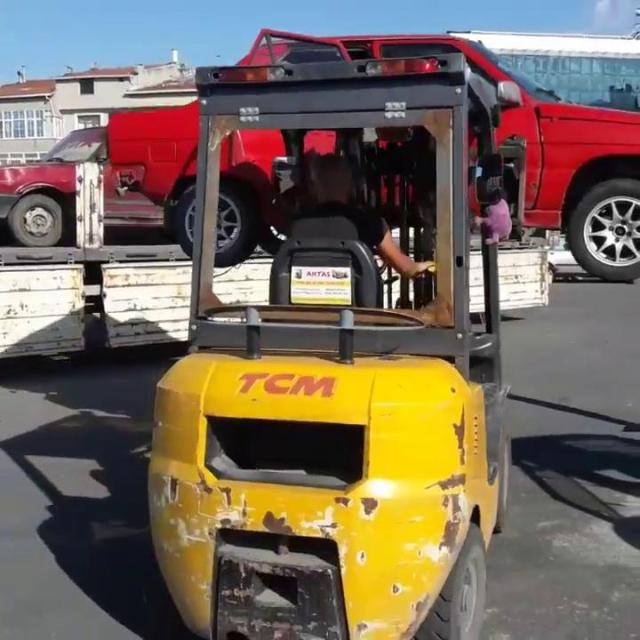forklift: (150, 91, 497, 640)
person: (246, 138, 443, 330)
